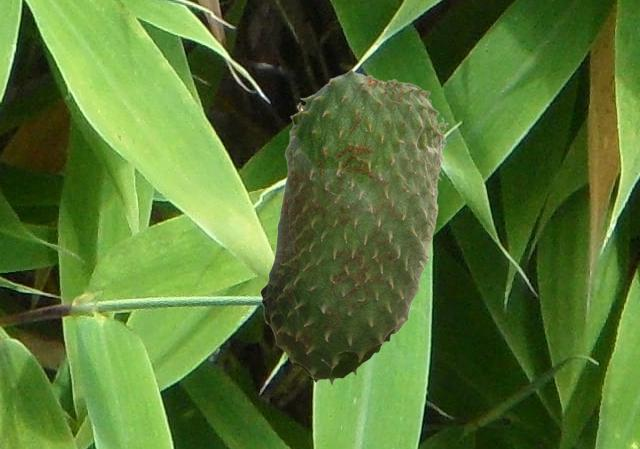guyabano: (258, 68, 447, 384)
